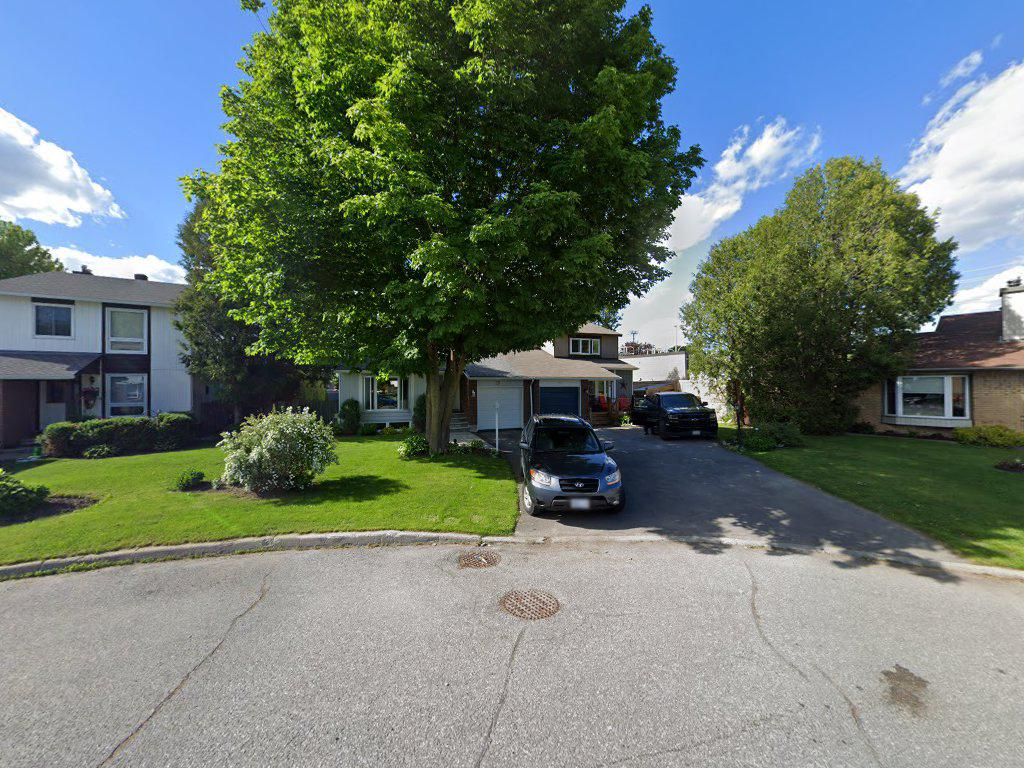trunk: (417, 343, 465, 479)
